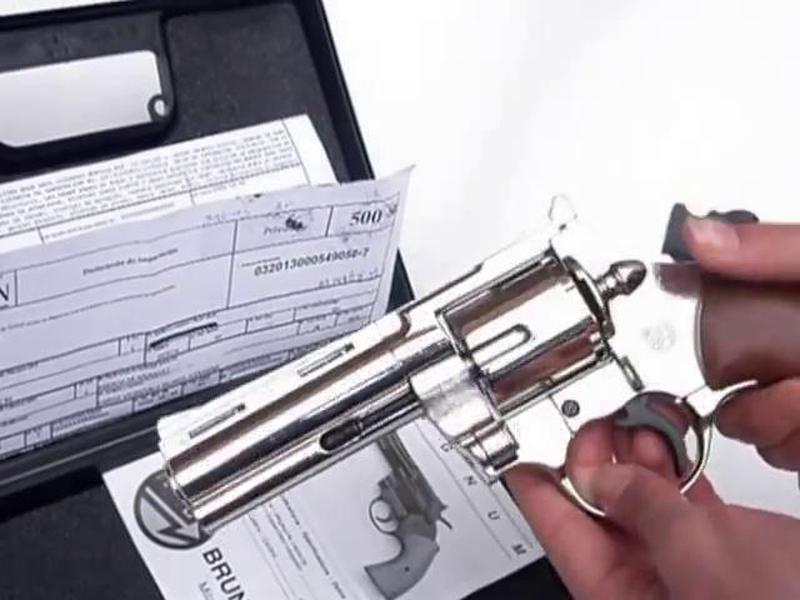Revolver: (139, 183, 743, 534)
